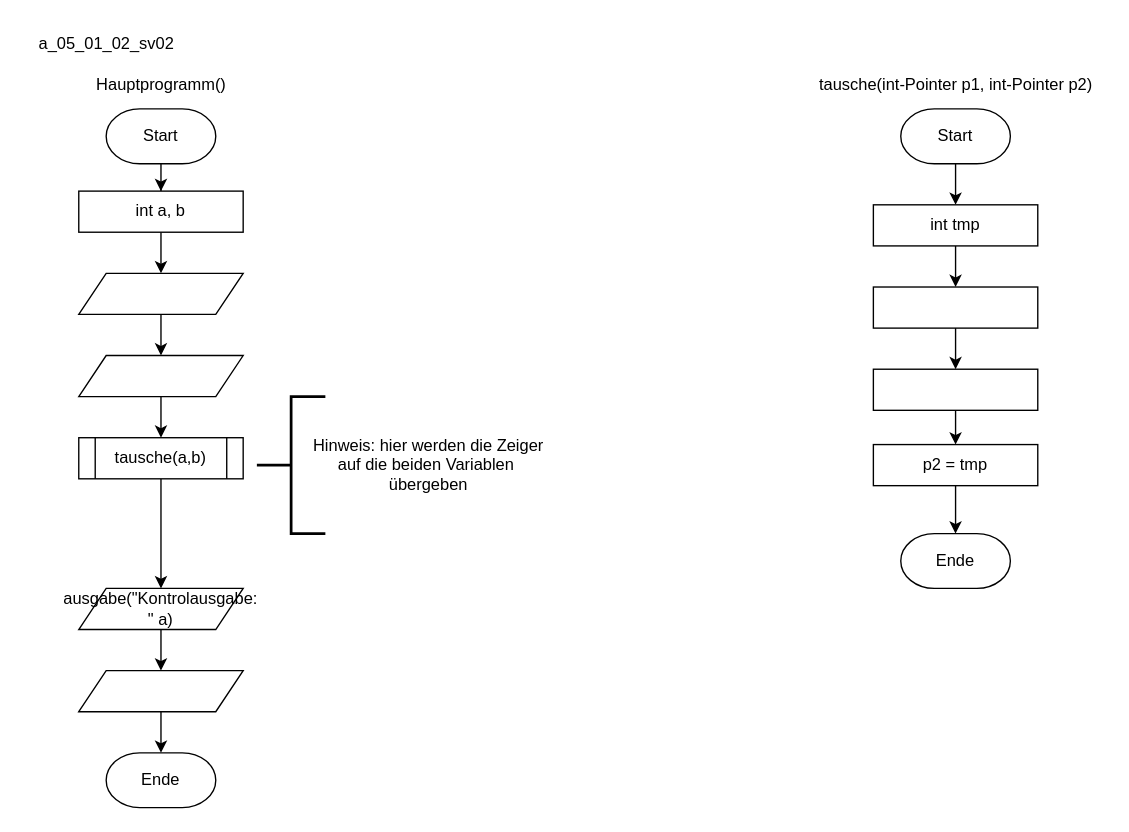
This 1129x832 diagram has some shape labels left out. Here are the shapes that lost their labels. From the top down, the centre of each, then its label:
the point at 160,293: a = eingabe()
the point at 955,307: tmp = p1
the point at 160,375: b = eingabe()
the point at 955,389: p1 = p2
the point at 160,690: ausgabe("Kontrolausgabe: " b)
